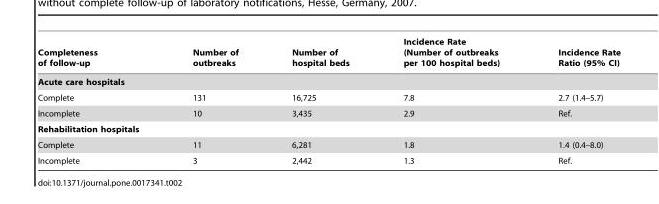table: (37, 37, 620, 164)
table column: (375, 37, 528, 164), (144, 37, 264, 164), (264, 37, 375, 164), (37, 37, 144, 164), (528, 37, 620, 164)
table column header: (37, 37, 620, 72)
table projected row header: (37, 72, 620, 89), (37, 121, 620, 136)
table row: (37, 37, 620, 72), (37, 72, 620, 89), (37, 89, 620, 105), (37, 105, 620, 121), (37, 136, 620, 152), (37, 121, 620, 136), (37, 152, 620, 164)
